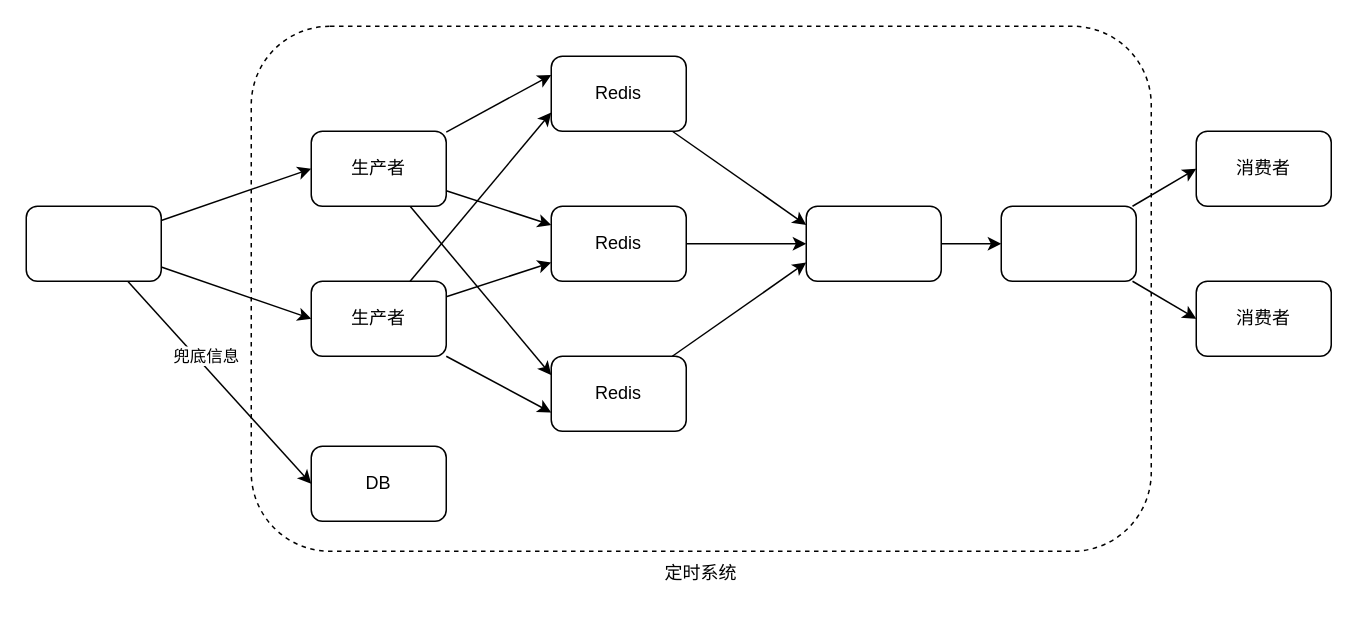
This 1358x623 diagram has some shape labels left out. Here are the shapes that lost their labels. From the top down, the centre of each, then its label:
the point at 93,243: 其他服务
the point at 873,243: 实时任务循环判断是否到时
the point at 1068,243: Kafka
